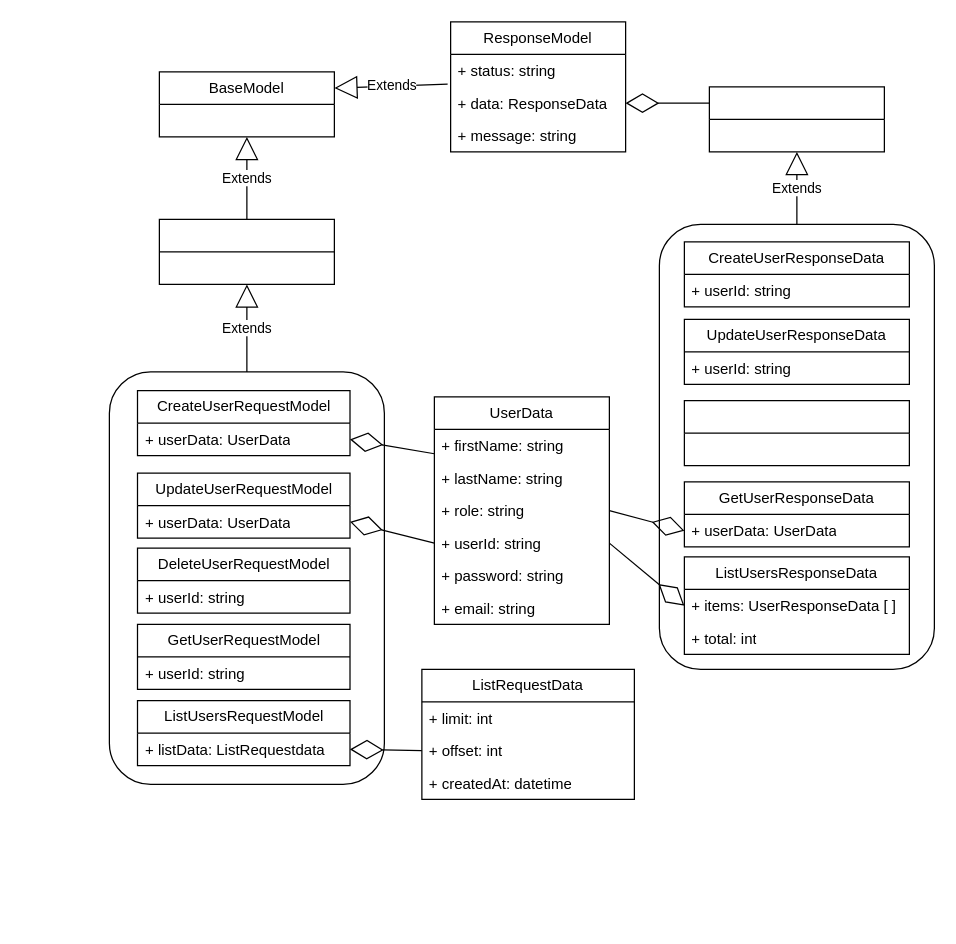
Image size: 956x944. Some labels were removed from this diagram. The shapes that lost their labels are listed below. From the top down, each one's centre as x and y in pixels, then its label:
the point at 796,119: RespondeData
the point at 246,251: RequestModel
the point at 796,432: DeleteUserResponseData
